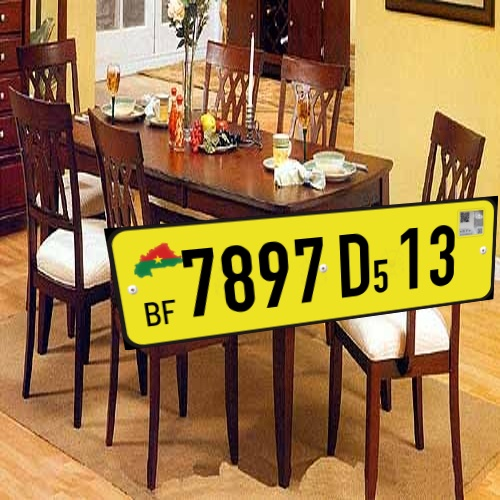plate: (90, 187, 500, 358)
